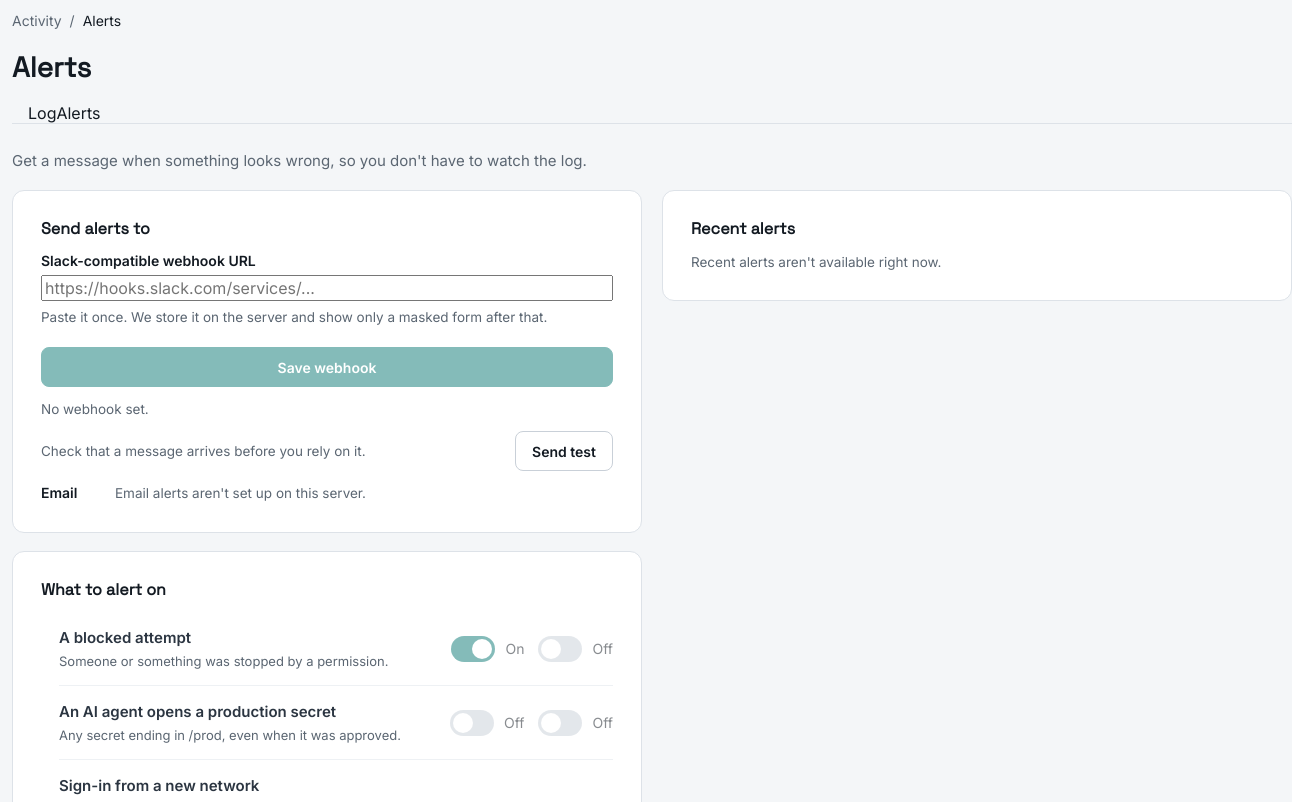
Test: Alerts › saves a webhook once and clears the field
Type "https://hooks.example.com/services/abc" into the field with id "webhook-url" at (327, 288), box x1=41 y1=275 x2=613 y2=301
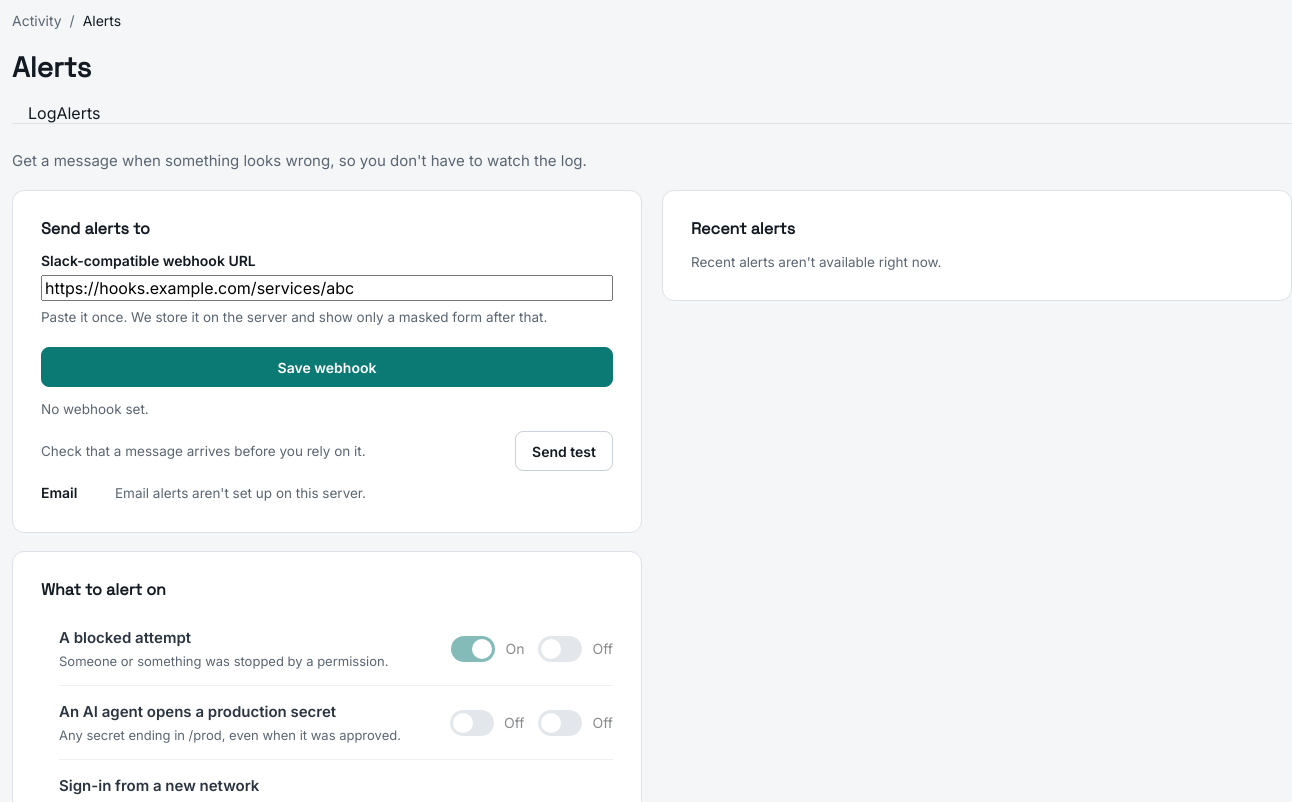
Submit the form, box x1=41 y1=252 x2=613 y2=387
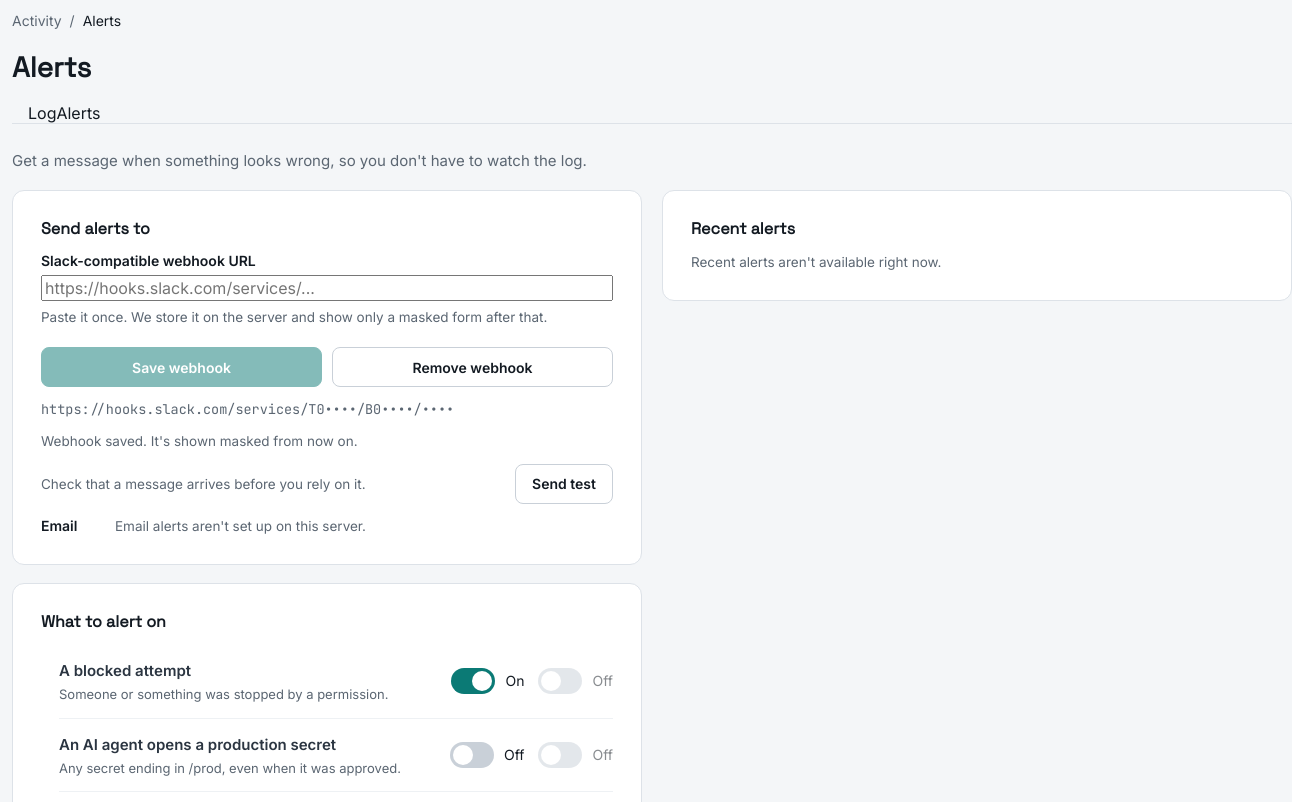
expect the field with id "webhook-url" is empty: met, box x1=41 y1=275 x2=613 y2=301
expect the text "shown masked from now on" is shown: met, box x1=41 y1=433 x2=358 y2=449
